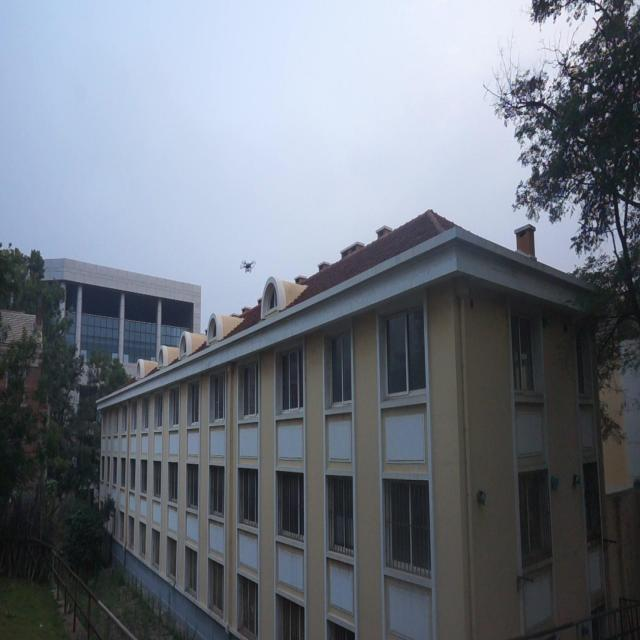UAV: (240, 260, 256, 273)
